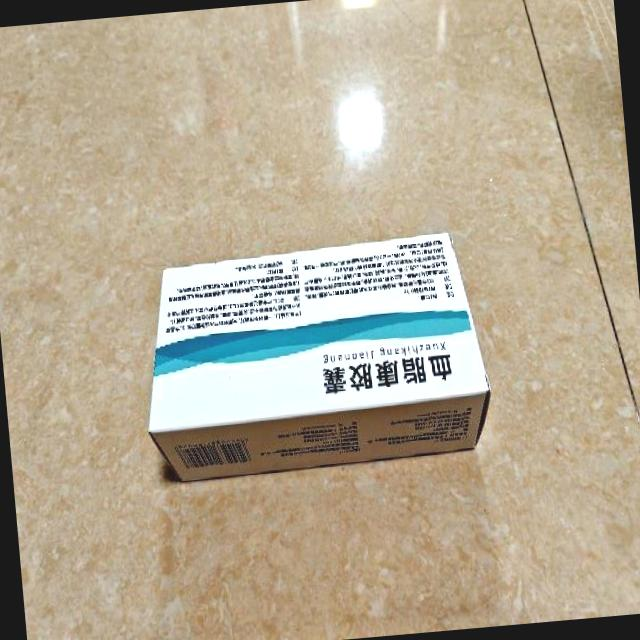box: (134, 230, 496, 483)
